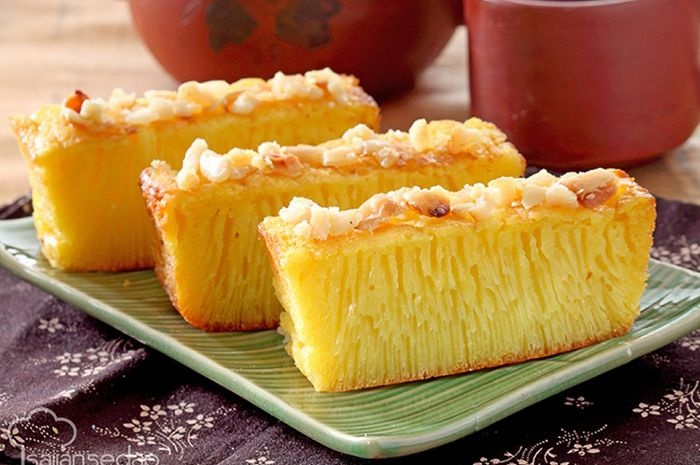bika_ambon: (146, 131, 653, 358), (258, 166, 649, 353)
